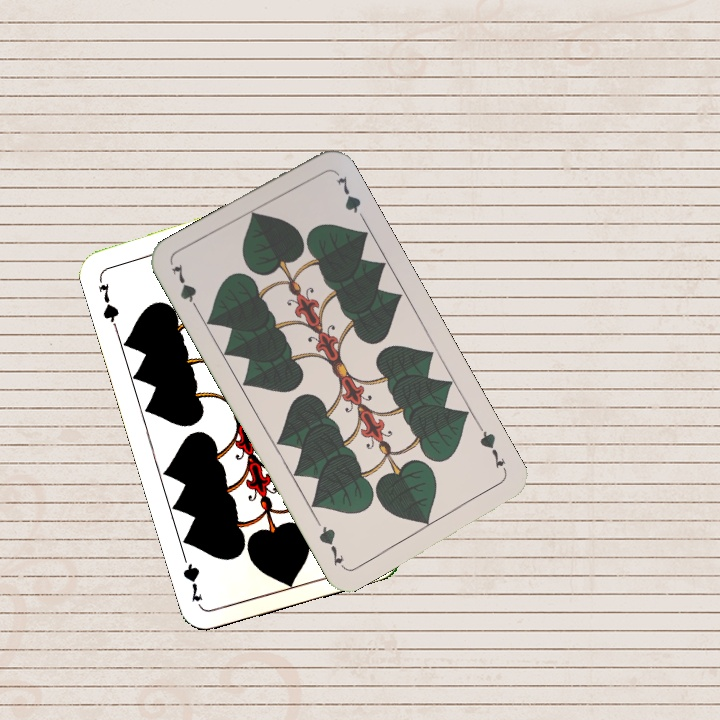G7: (167, 260, 203, 316), (475, 422, 510, 476), (93, 272, 122, 330)
